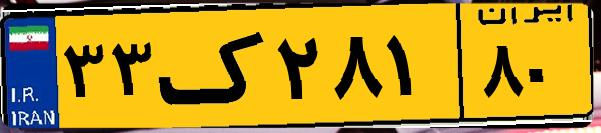0: (525, 38, 570, 115)
1: (385, 28, 445, 110)
2: (270, 28, 330, 110)
3: (57, 26, 110, 100), (110, 28, 158, 98)
8: (330, 28, 385, 110), (475, 38, 525, 113)
ک: (158, 12, 270, 120)
